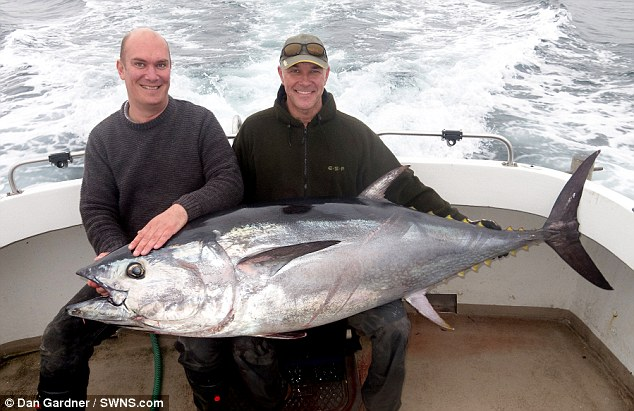Bluefina Tuna: (66, 182, 608, 340)
